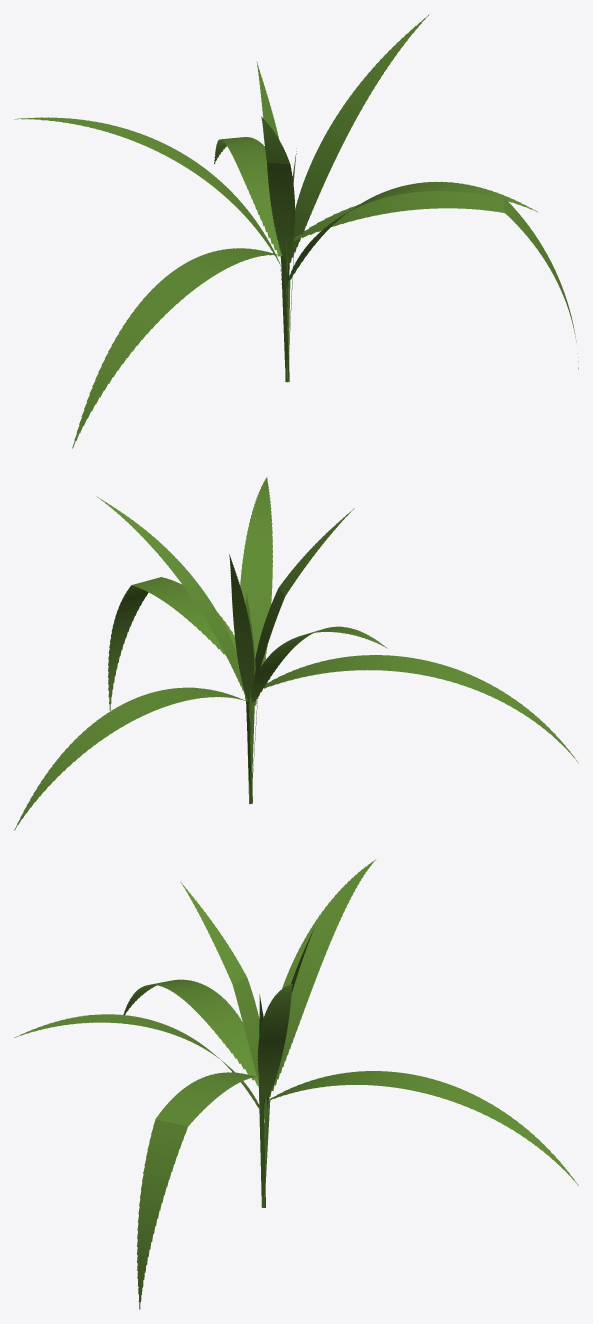
File: maize_003_day_070.dae
3 renders of one model, top to bottom at view 1: azimuth 30°, elevation 25°; view 2: azimuth 150°, elevation 25°; view 3: azimuth 270°, elevation 25°, orthographic. The views are drawn at different scales.
Visible parts, largest first — view 1: node; view 2: node; view 3: node.
Boxes of the visible parts, <box> form: node: <box>14,14,578,448</box>; node: <box>14,477,578,830</box>; node: <box>14,859,578,1309</box>.
Bounding box in the file's own units: 0.9757 × 0.5725 × 0.9934.
1 material, 1 textured.
